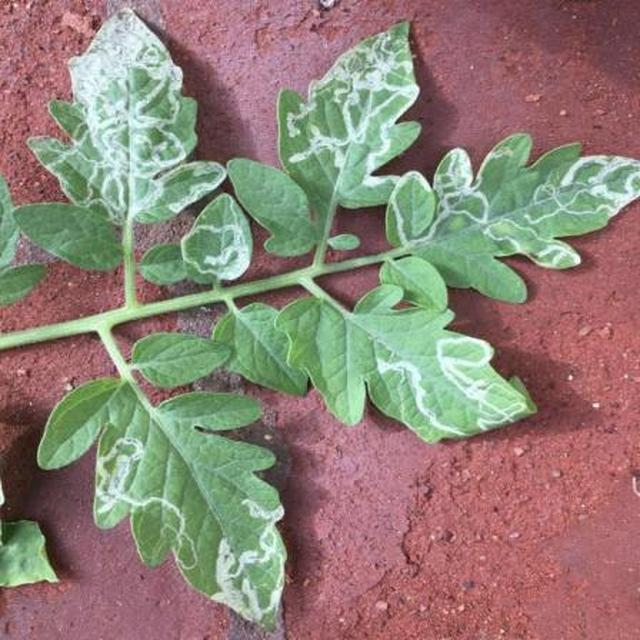Leaf Miner: (100, 82, 640, 640)
